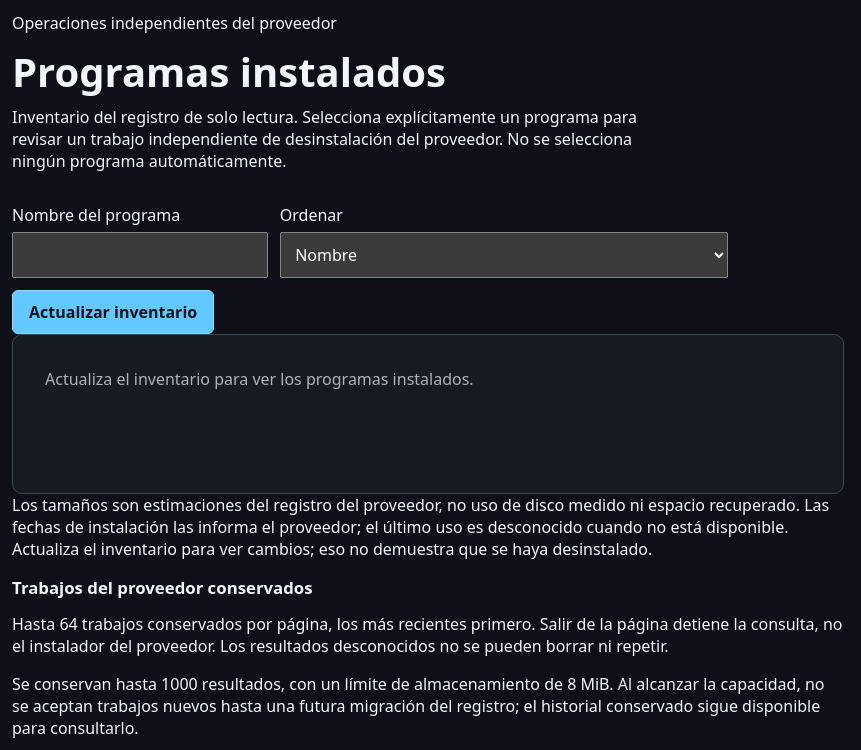
Test: renders Spanish copy for es-MX
This screenshot has width=861, height=750.
Expected: the heading "Programas instalados" is shown, [12,44,446,99]
Click the button "Actualizar inventario": [113, 312] box [12,290,214,334]
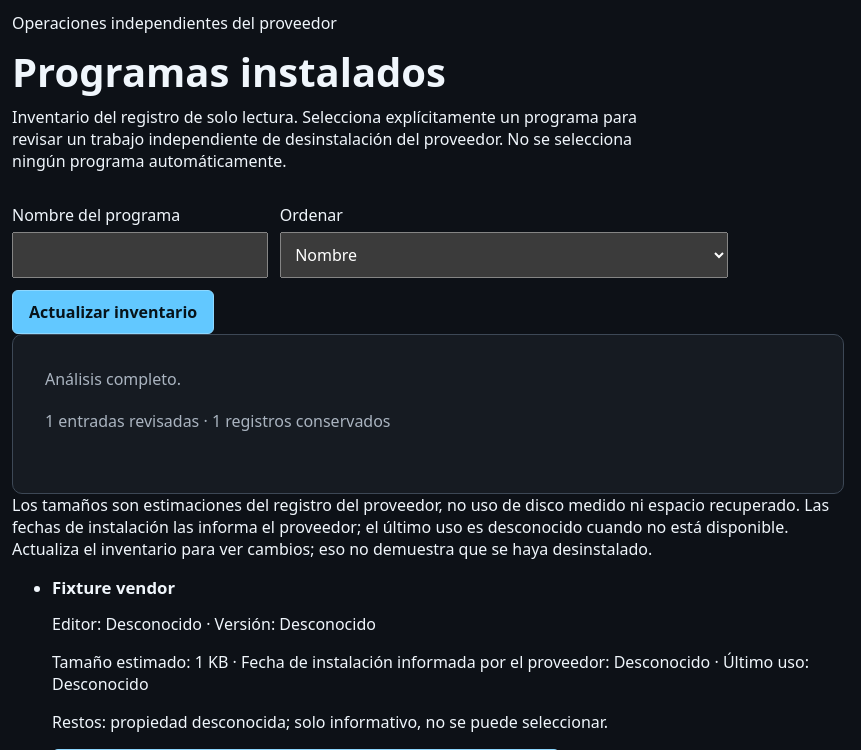
Now the text "Editor: Desconocido · Versión: Desconocido" is shown, box [52,613,376,635]
